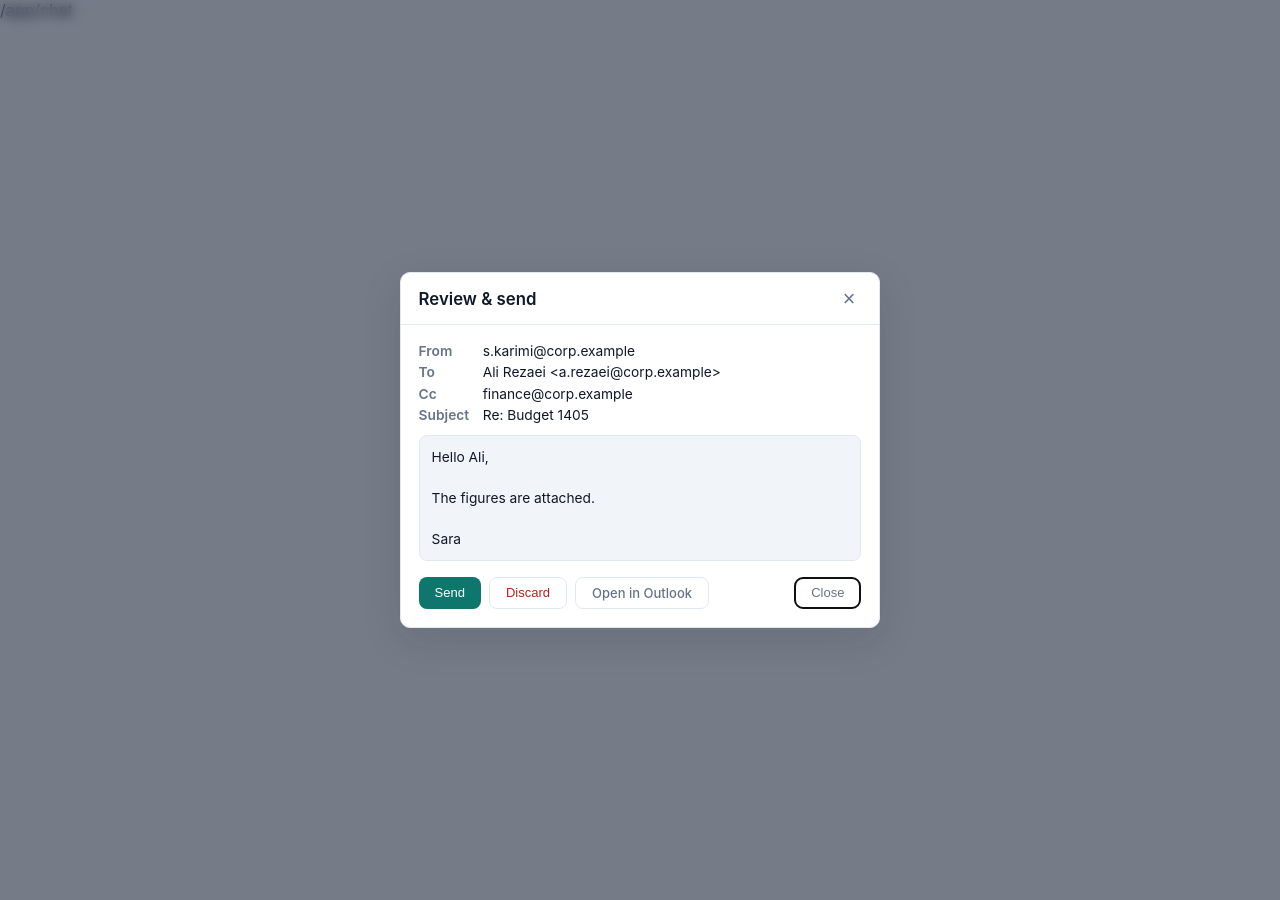
Test: MailReviewDialog › shows a failed send as the server keeps it, with why
Click the button "Send" at (450,593), box x1=419 y1=577 x2=481 y2=609
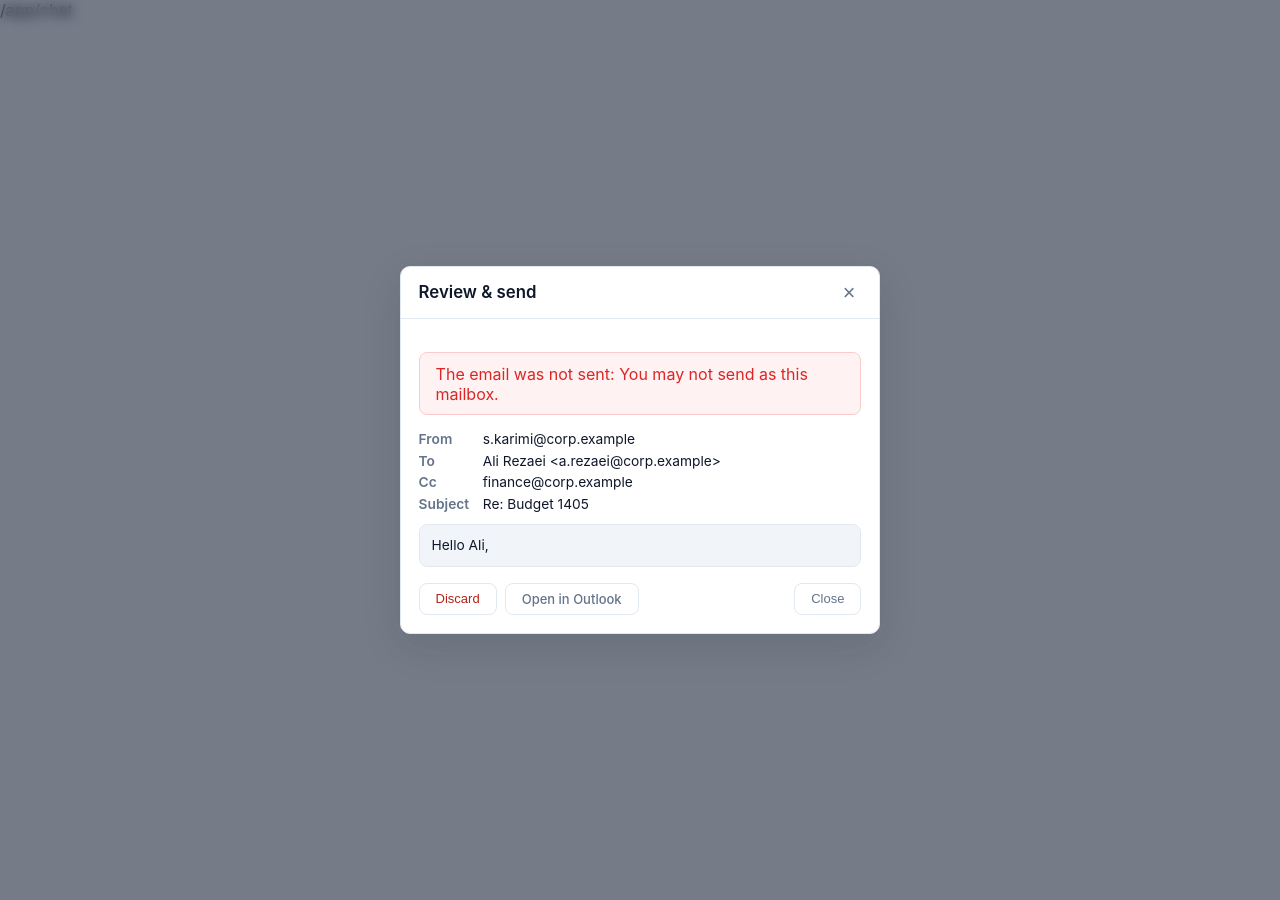
Expected: the link "Open in Outlook" is shown, x1=505 y1=583 x2=639 y2=615
Expected: the dialog shows "The email was not sent: You may not send as this mailbox.", x1=400 y1=266 x2=880 y2=634
